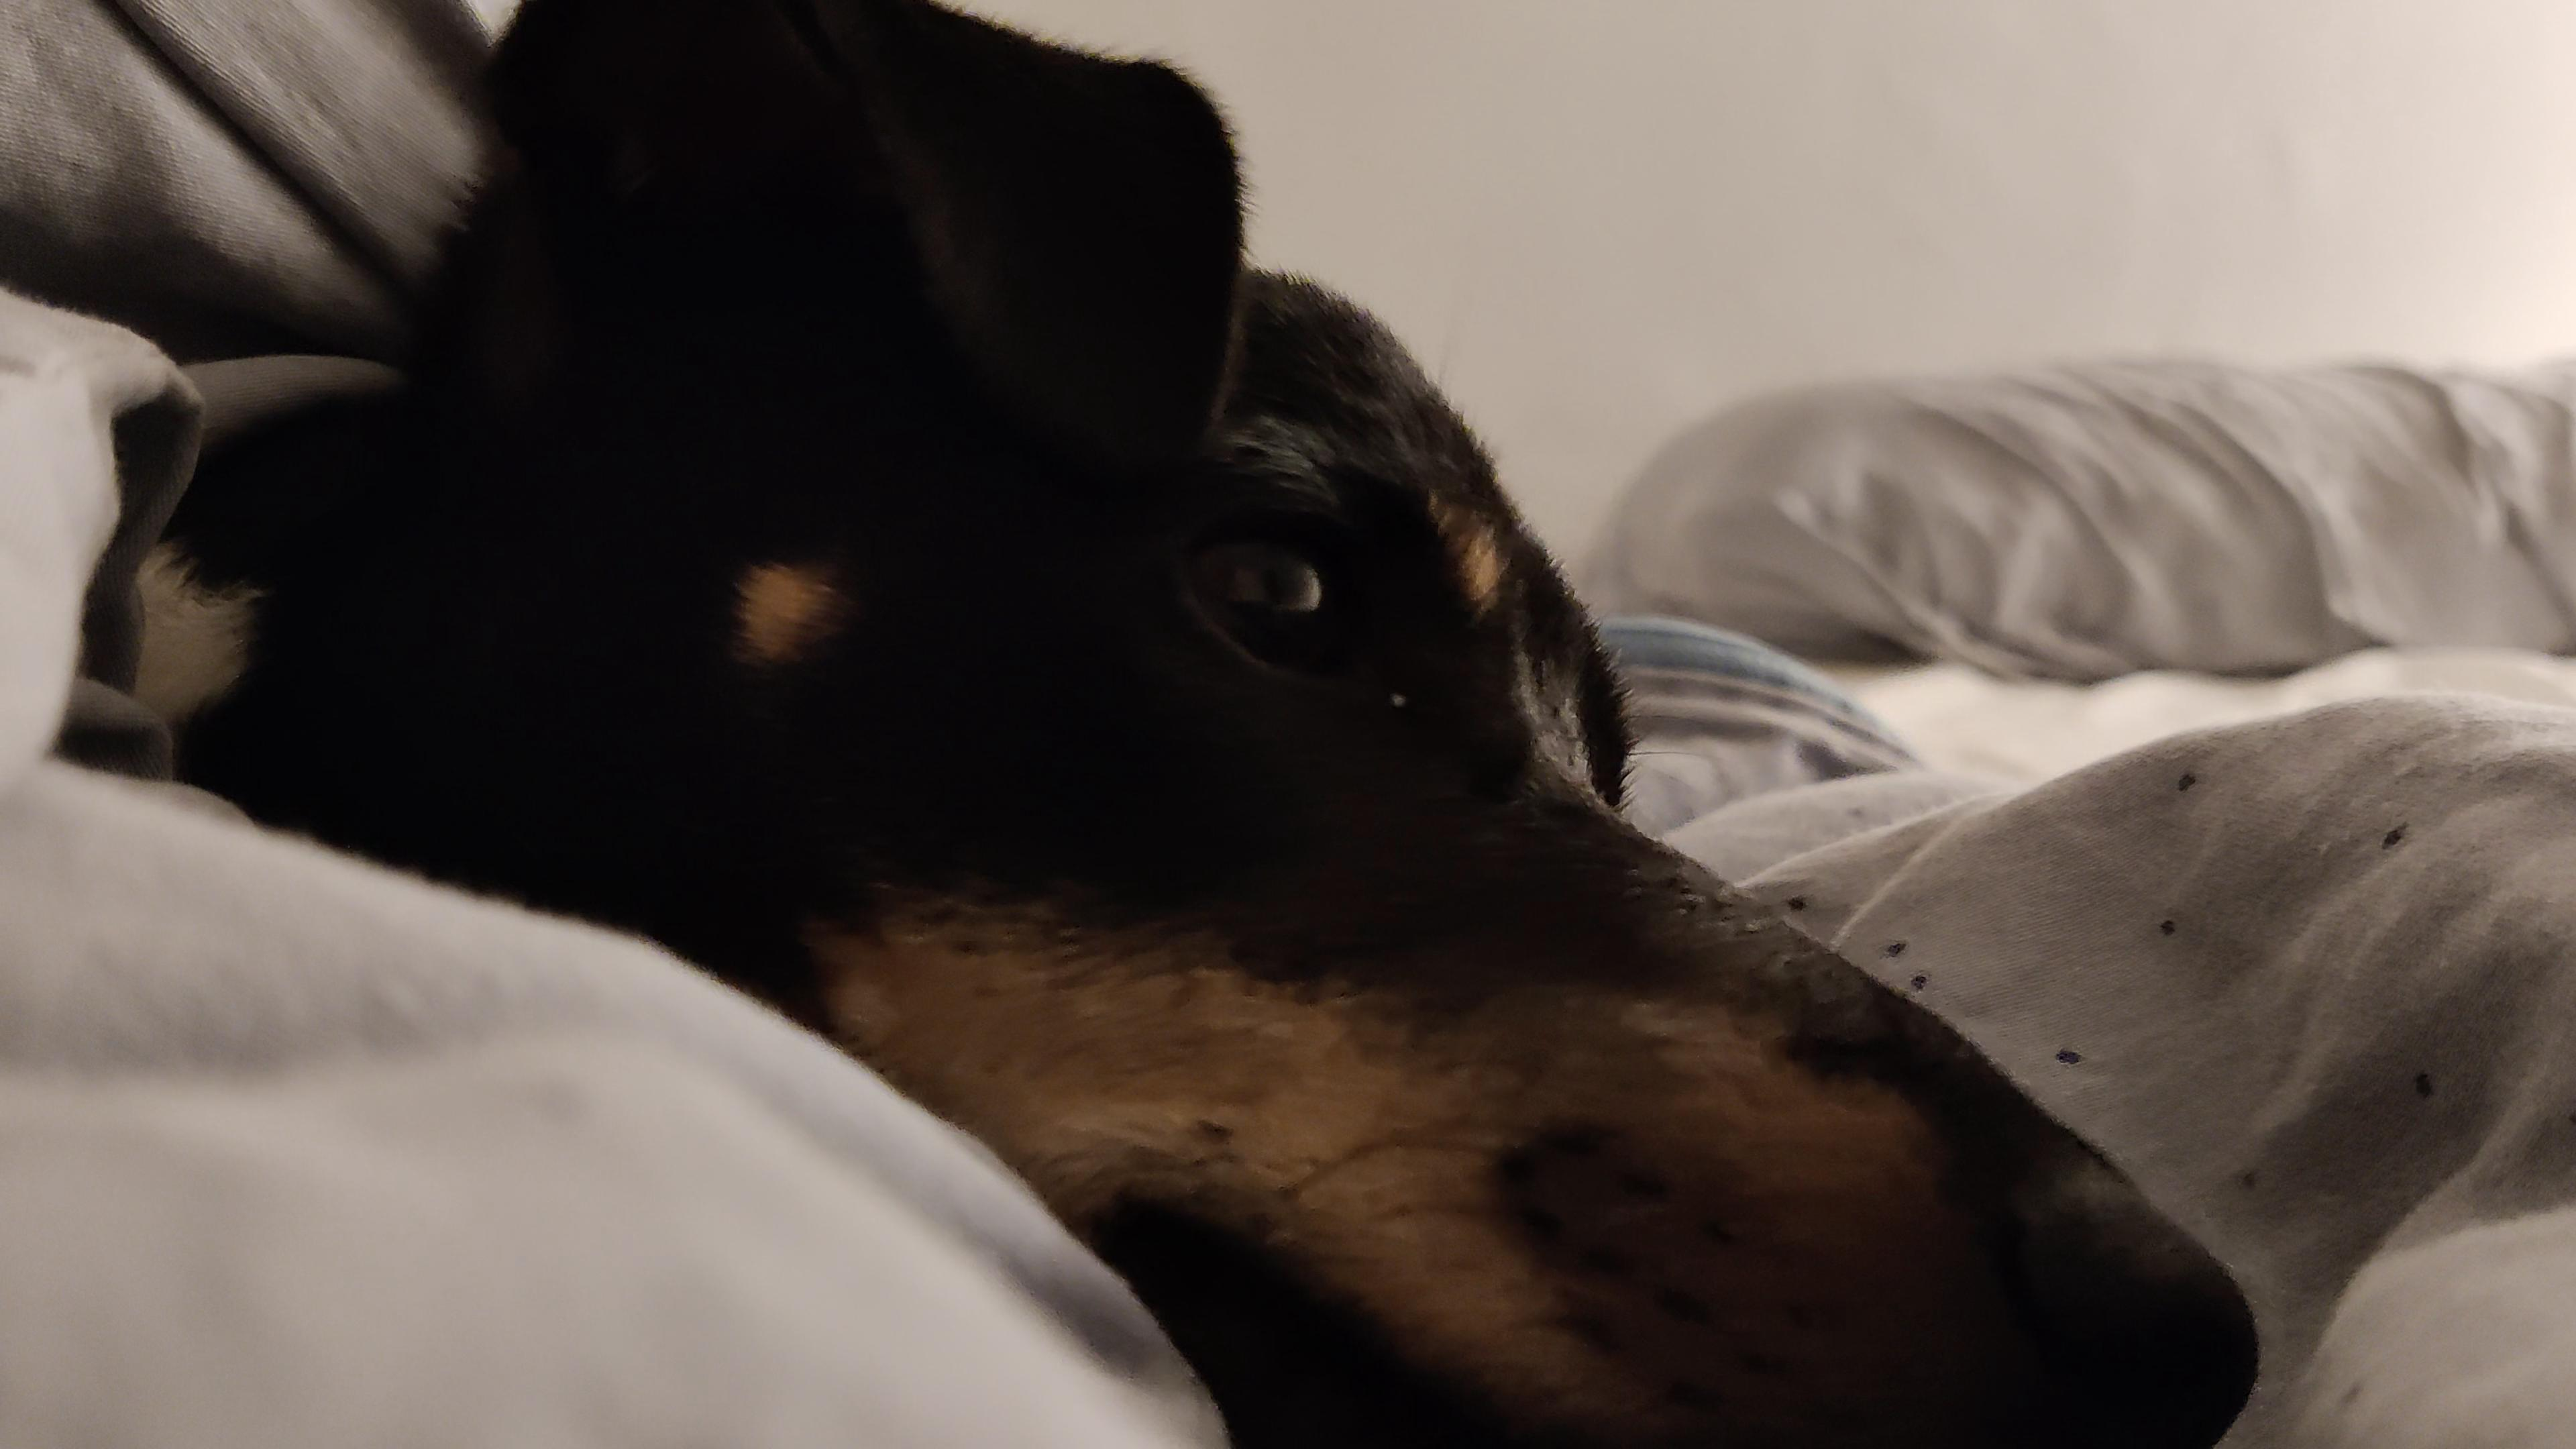Dog: (127, 0, 2265, 1449)
